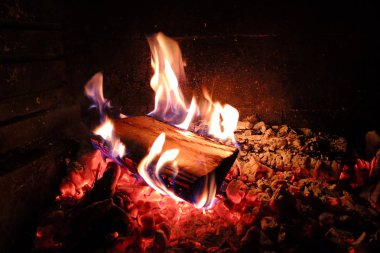fire: (148, 48, 239, 142), (144, 134, 179, 191), (99, 107, 125, 161)
